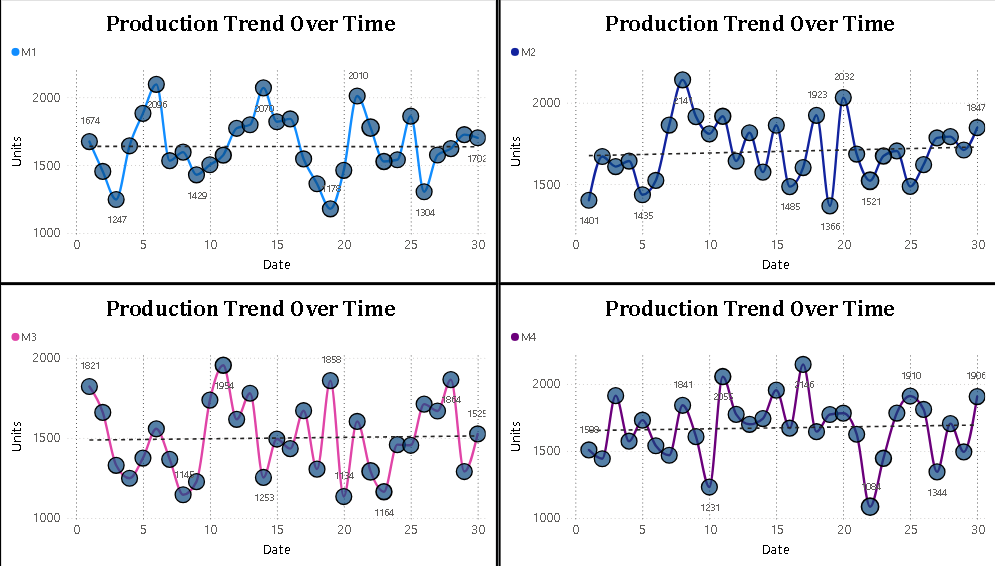

What the dashboard file says about the page in this screenshot:
{"tool":"powerbi","page":{"name":"Page 1","canvas":[1280,720],"ordinal":1},"visuals":[{"type":"lineChart","title":"Production Trend Over Time","fields":{"Y":["Sum(Sheet1.Units)"],"Category":["Sheet1.Date.Variation.Date Hierarchy.Day"],"Series":["Sheet1.Machine"]},"box":[0,0,628.4,360.4],"z":0},{"type":"lineChart","title":"Production Trend Over Time","fields":{"Y":["Sum(Sheet1.Units)"],"Category":["Sheet1.Date.Variation.Date Hierarchy.Day"],"Series":["Sheet1.Machine"]},"box":[628.4,0,628.4,360.4],"z":1000},{"type":"lineChart","title":"Production Trend Over Time","fields":{"Y":["Sum(Sheet1.Units)"],"Category":["Sheet1.Date.Variation.Date Hierarchy.Day"],"Series":["Sheet1.Machine"]},"box":[0,358.9,628.4,360.4],"z":2000},{"type":"lineChart","title":"Production Trend Over Time","fields":{"Y":["Sum(Sheet1.Units)"],"Category":["Sheet1.Date.Variation.Date Hierarchy.Day"],"Series":["Sheet1.Machine"]},"box":[629.9,358.9,628.4,360.4],"z":3000}]}

Visuals, with their boxes in screenshot pixels (x1, y1, x2, y2), scaled from the page's 1280x720 canvas onto the 995x566 screenshot:
"Production Trend Over Time" lineChart: (0, 0, 488, 283)
"Production Trend Over Time" lineChart: (488, 0, 977, 283)
"Production Trend Over Time" lineChart: (0, 282, 488, 565)
"Production Trend Over Time" lineChart: (490, 282, 978, 565)
